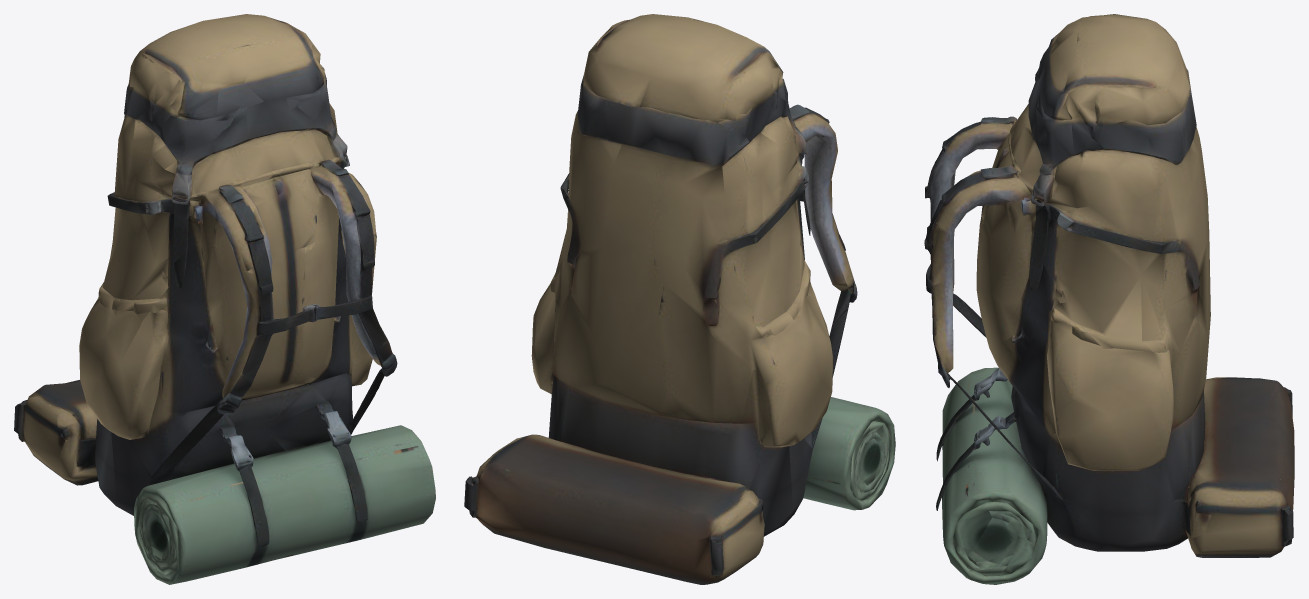
File: hiking-backpack.glb
3 renders of one model, left to right at view 1: azimuth 30°, elevation 25°; view 2: azimuth 150°, elevation 25°; view 3: azimuth 270°, elevation 25°, orthographic. The views are drawn at different scales.
Visible parts, largest first — view 1: Mesh; view 2: Mesh; view 3: Mesh.
Boxes of the visible parts, x1,y1,x2,y2 form: Mesh: [14, 14, 435, 584]; Mesh: [464, 14, 895, 584]; Mesh: [924, 14, 1294, 584].
Size of the model in its own units: 1.09 by 1.9 by 1.3.
1 material, 1 textured.
